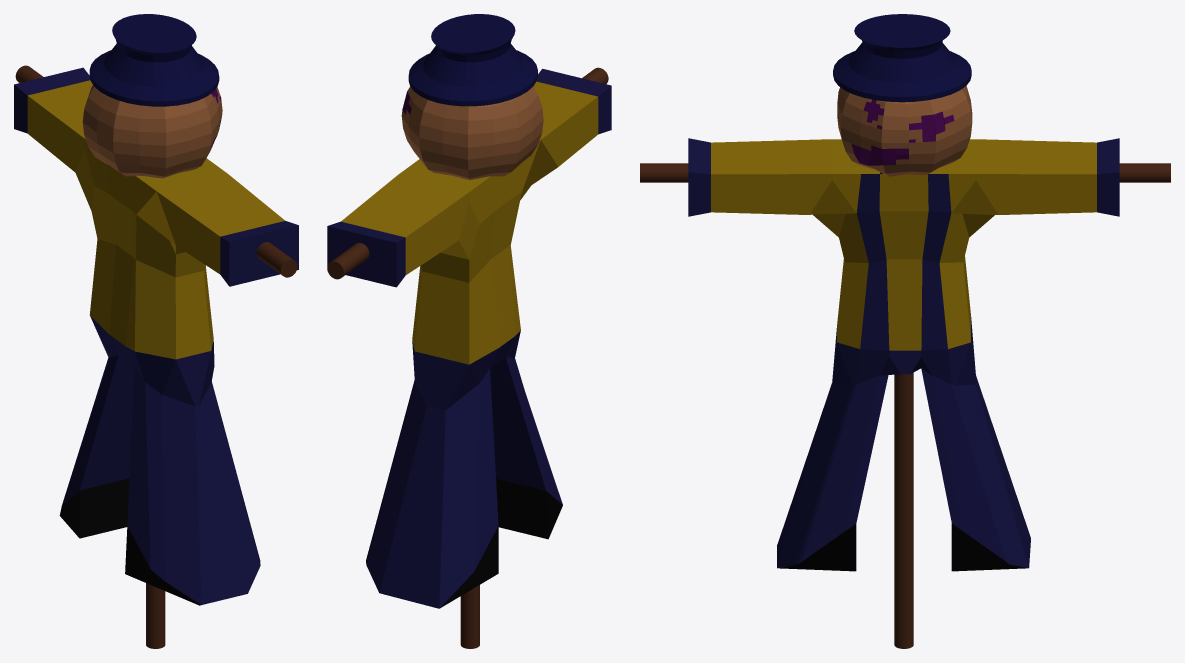
File: Espantalho_2.fbx
The picture shows the model from 3 angles, left to right: view 1: azimuth 30°, elevation 25°; view 2: azimuth 150°, elevation 25°; view 3: azimuth 270°, elevation 25°; orthographic projection.
Parts seen in each view (by area): view 1: Corpo, Cabeça, Chapeu, Base, Base 2; view 2: Corpo, Cabeça, Chapeu, Base, Base 2; view 3: Corpo, Cabeça, Chapeu, Base, Base 2.
Part boxes in pixels (x1,y1,x2,y2): Corpo: [14, 67, 298, 605]; Cabeça: [82, 85, 222, 178]; Chapeu: [89, 14, 219, 106]; Base: [146, 583, 165, 648]; Base 2: [15, 65, 297, 277]; Corpo: [327, 68, 611, 608]; Cabeça: [401, 86, 543, 179]; Chapeu: [408, 14, 537, 106]; Base: [460, 585, 479, 648]; Base 2: [327, 67, 608, 279]; Corpo: [688, 138, 1119, 571]; Cabeça: [837, 86, 972, 176]; Chapeu: [833, 14, 971, 102]; Base: [894, 372, 913, 648]; Base 2: [640, 163, 1170, 182].
Bounding box in the file's own units: 92 × 450 × 353.
